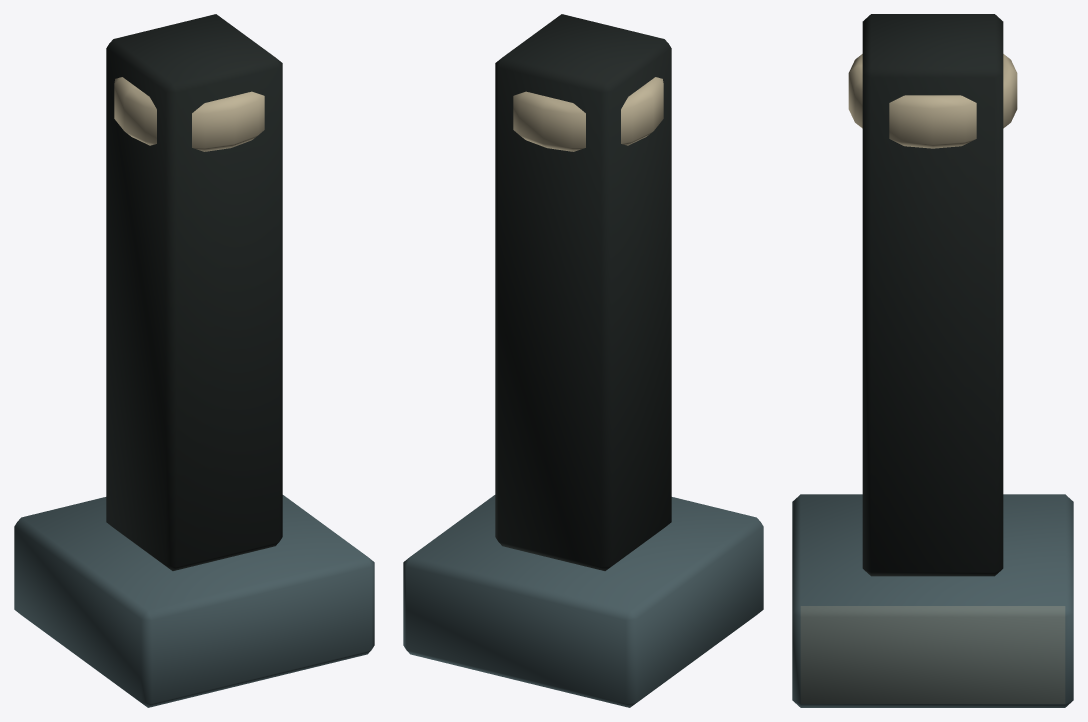
File: net_shoe.glb
3 renders of one model, left to right at view 1: azimuth 30°, elevation 25°; view 2: azimuth 150°, elevation 25°; view 3: azimuth 270°, elevation 25°, orthographic. The views are drawn at different scales.
Parts seen in each view (by area): view 1: Hardware; view 2: Hardware; view 3: Hardware.
Part boxes in pixels (x1,y1,x2,y2): Hardware: [14, 14, 374, 707]; Hardware: [403, 14, 763, 707]; Hardware: [792, 14, 1073, 707].
Bounding box in the file's own units: 1 × 2.4 × 1.
